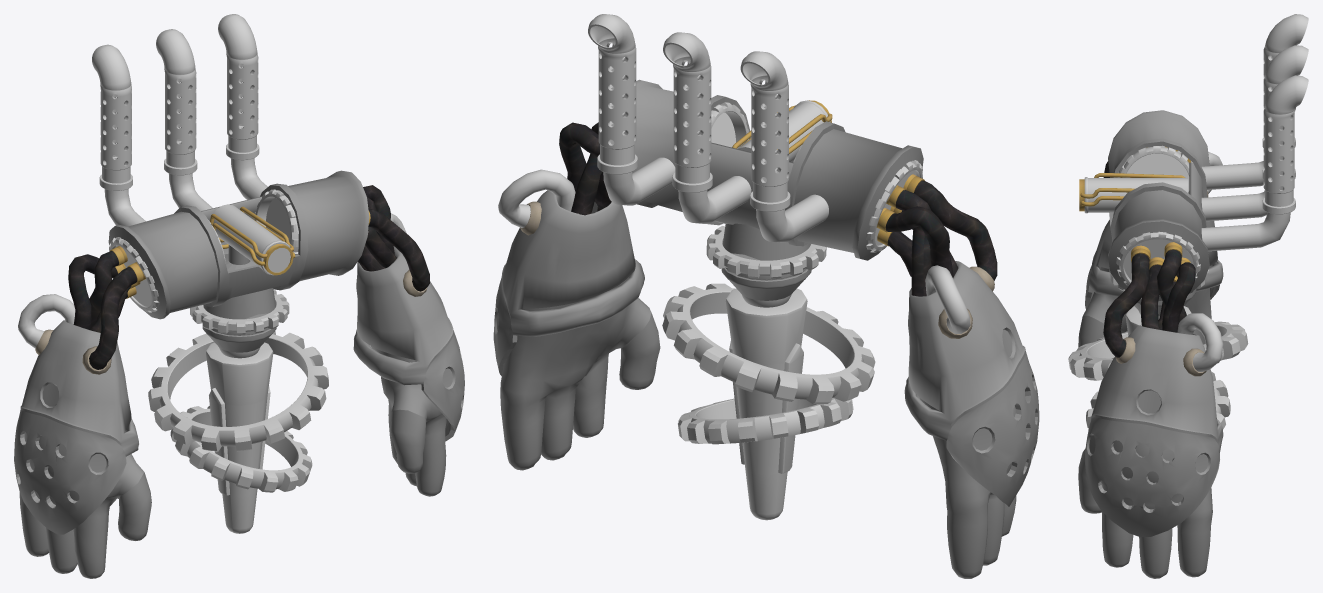
Rendered from 0130904_TestUpload1.fbx.
The picture shows the model from 3 angles, left to right: view 1: azimuth 30°, elevation 25°; view 2: azimuth 150°, elevation 25°; view 3: azimuth 270°, elevation 25°; orthographic projection. The views are drawn at different scales.
Parts seen in each view (by area): view 1: Gauntlet - Low Poly, Body-LowPoly, Gauntlet - Low Poly001, BottomGear1-LowPoly, RightArm-LowPoly, Bottom-LowPoly, Exhaust3-LowPoly, Exhaust1-LowPoly, Exhaust2-LowPoly, LeftArm-LowPoly001, BottomGear2-LowPoly, RightTube2-Lowpoly (+13 smaller); view 2: Gauntlet - Low Poly, Body-LowPoly, LeftArm-LowPoly001, Gauntlet - Low Poly001, BottomGear1-LowPoly, Bottom-LowPoly, Exhaust2-LowPoly, Exhaust3-LowPoly, Exhaust1-LowPoly, RightArm-LowPoly, BottomGear2-LowPoly, TorsoGear1-LowPoly (+12 smaller); view 3: Gauntlet - Low Poly001, Body-LowPoly, Exhaust3-LowPoly, LeftArm-LowPoly001, Exhaust2-LowPoly, Exhaust1-LowPoly, BottomGear1-LowPoly, Gauntlet - Low Poly, LeftTube2-Lowpoly001, RightArm-LowPoly, Head-LowPoly, LeftTube6-LowPoly001 (+11 smaller).
Boxes of the visible parts, x1=… form: Gauntlet - Low Poly: x1=14, y1=320, x2=138, y2=534; Body-LowPoly: x1=108, y1=170, x2=369, y2=319; Gauntlet - Low Poly001: x1=353, y1=246, x2=464, y2=441; BottomGear1-LowPoly: x1=148, y1=331, x2=328, y2=451; RightArm-LowPoly: x1=19, y1=430, x2=151, y2=578; Bottom-LowPoly: x1=206, y1=342, x2=273, y2=533; Exhaust3-LowPoly: x1=218, y1=14, x2=267, y2=199; Exhaust1-LowPoly: x1=92, y1=44, x2=145, y2=226; Exhaust2-LowPoly: x1=156, y1=29, x2=212, y2=210; LeftArm-LowPoly001: x1=371, y1=346, x2=446, y2=496; BottomGear2-LowPoly: x1=170, y1=406, x2=312, y2=492; RightTube2-Lowpoly: x1=89, y1=267, x2=137, y2=369; Gauntlet - Low Poly: x1=904, y1=261, x2=1039, y2=506; Body-LowPoly: x1=624, y1=79, x2=923, y2=260; LeftArm-LowPoly001: x1=500, y1=277, x2=660, y2=470; Gauntlet - Low Poly001: x1=493, y1=190, x2=644, y2=375; BottomGear1-LowPoly: x1=662, y1=283, x2=875, y2=404; Bottom-LowPoly: x1=725, y1=288, x2=807, y2=520; Exhaust2-LowPoly: x1=663, y1=32, x2=751, y2=223; Exhaust3-LowPoly: x1=588, y1=14, x2=675, y2=205; Exhaust1-LowPoly: x1=740, y1=51, x2=828, y2=242; RightArm-LowPoly: x1=919, y1=397, x2=1016, y2=578; BottomGear2-LowPoly: x1=678, y1=398, x2=853, y2=444; TorsoGear1-LowPoly: x1=706, y1=226, x2=826, y2=278; Gauntlet - Low Poly001: x1=1085, y1=325, x2=1223, y2=537; Body-LowPoly: x1=1108, y1=110, x2=1209, y2=300; Exhaust3-LowPoly: x1=1201, y1=75, x2=1308, y2=251; LeftArm-LowPoly001: x1=1078, y1=440, x2=1212, y2=578; Exhaust2-LowPoly: x1=1201, y1=45, x2=1308, y2=221; Exhaust1-LowPoly: x1=1201, y1=14, x2=1308, y2=189; BottomGear1-LowPoly: x1=1068, y1=321, x2=1248, y2=380; Gauntlet - Low Poly: x1=1085, y1=220, x2=1223, y2=309; LeftTube2-Lowpoly001: x1=1103, y1=253, x2=1149, y2=357; RightArm-LowPoly: x1=1078, y1=265, x2=1211, y2=358; Head-LowPoly: x1=1084, y1=177, x2=1188, y2=213; LeftTube6-LowPoly001: x1=1177, y1=313, x2=1223, y2=372.
Size of the model in its own units: 23.32 by 23.4 by 11.35.
